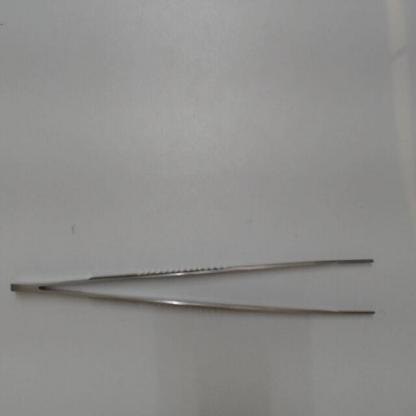DeBakey Dissector: (1, 245, 384, 333)
